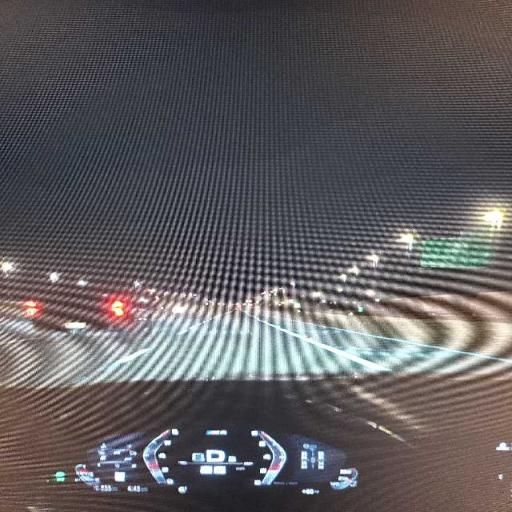car: (22, 287, 140, 330)
lane: (0, 310, 511, 386), (252, 317, 389, 370)
